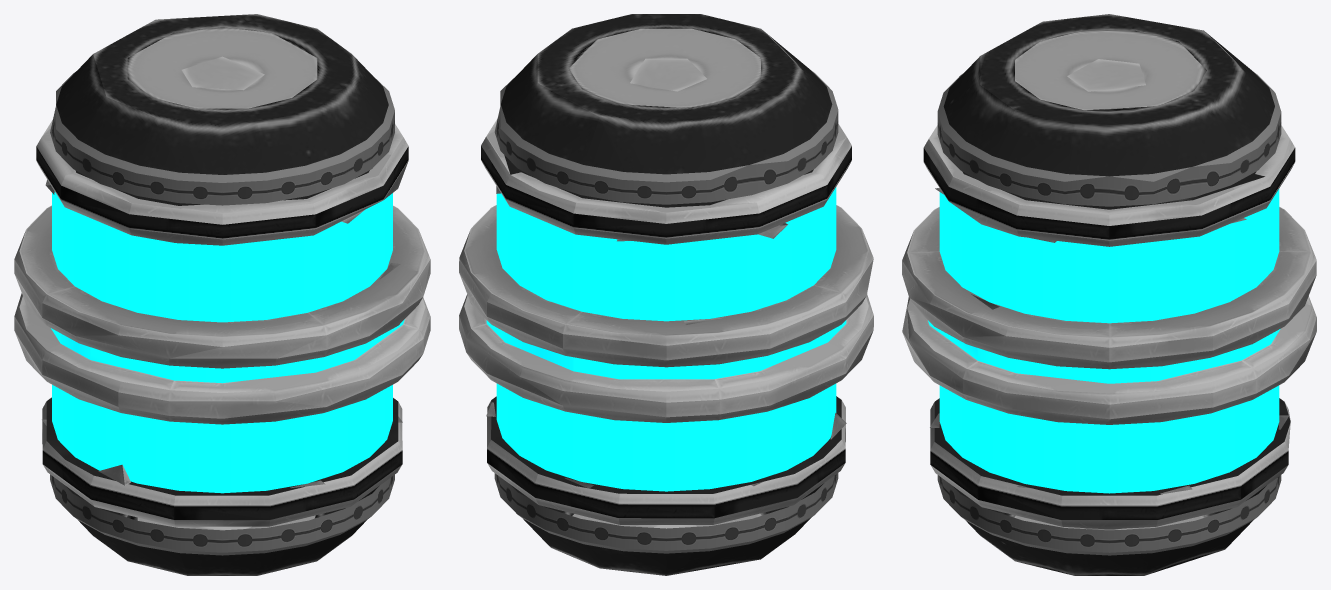
File: FUT0110003.fbx
The picture shows the model from 3 angles, left to right: view 1: azimuth 30°, elevation 25°; view 2: azimuth 150°, elevation 25°; view 3: azimuth 270°, elevation 25°; orthographic projection.
Visible parts, largest first — view 1: smFUT0110003; view 2: smFUT0110003; view 3: smFUT0110003.
Part boxes in pixels (box(x1,y1,x2,y2)): smFUT0110003: box(14, 14, 430, 575); smFUT0110003: box(459, 14, 873, 575); smFUT0110003: box(902, 14, 1316, 575).
Bounding box in the file's own units: 97.96 × 118 × 97.96.
1 material, 1 textured.
